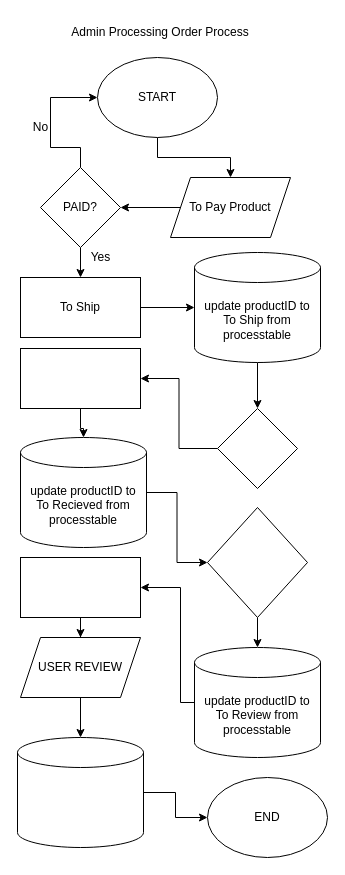
The diagram is 345 pixels wide and 875 high, and some of its shapes have lost their labels. Here are the shapes that lost their labels. From the top down, the centre of each, then its label:
(80,378): To Recieved
(257,448): SHIPPED?
(257,562): RECIEVED?
(80,587): To Review
(80,792): Remove the ID from orders and processing tables
